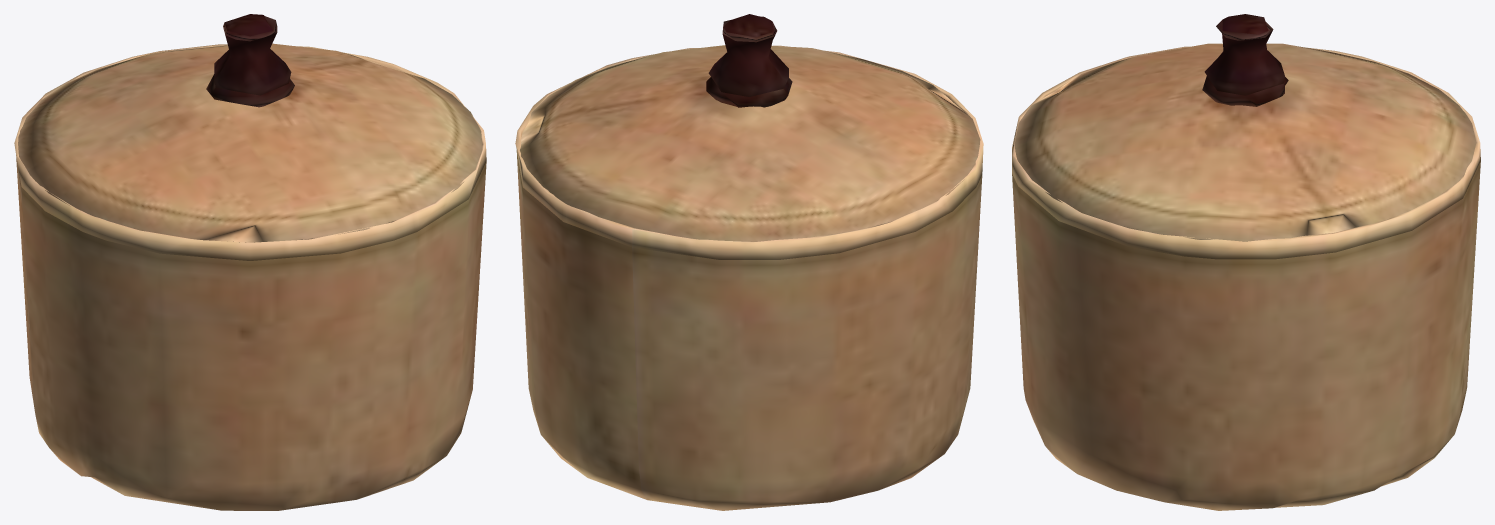
Rendered from brass_pot_01.glb.
3 renders of one model, left to right at view 1: azimuth 30°, elevation 25°; view 2: azimuth 150°, elevation 25°; view 3: azimuth 270°, elevation 25°, orthographic.
Parts seen in each view (by area): view 1: brass_pot_01; view 2: brass_pot_01; view 3: brass_pot_01.
Part boxes in pixels (left/top/right/bottom): brass_pot_01: left=14, top=14, right=486, bottom=510; brass_pot_01: left=515, top=14, right=983, bottom=510; brass_pot_01: left=1012, top=14, right=1480, bottom=510.
Bounding box in the file's own units: 0.2988 × 0.2874 × 0.2979.
Materials: 1 (1 with a texture image).
